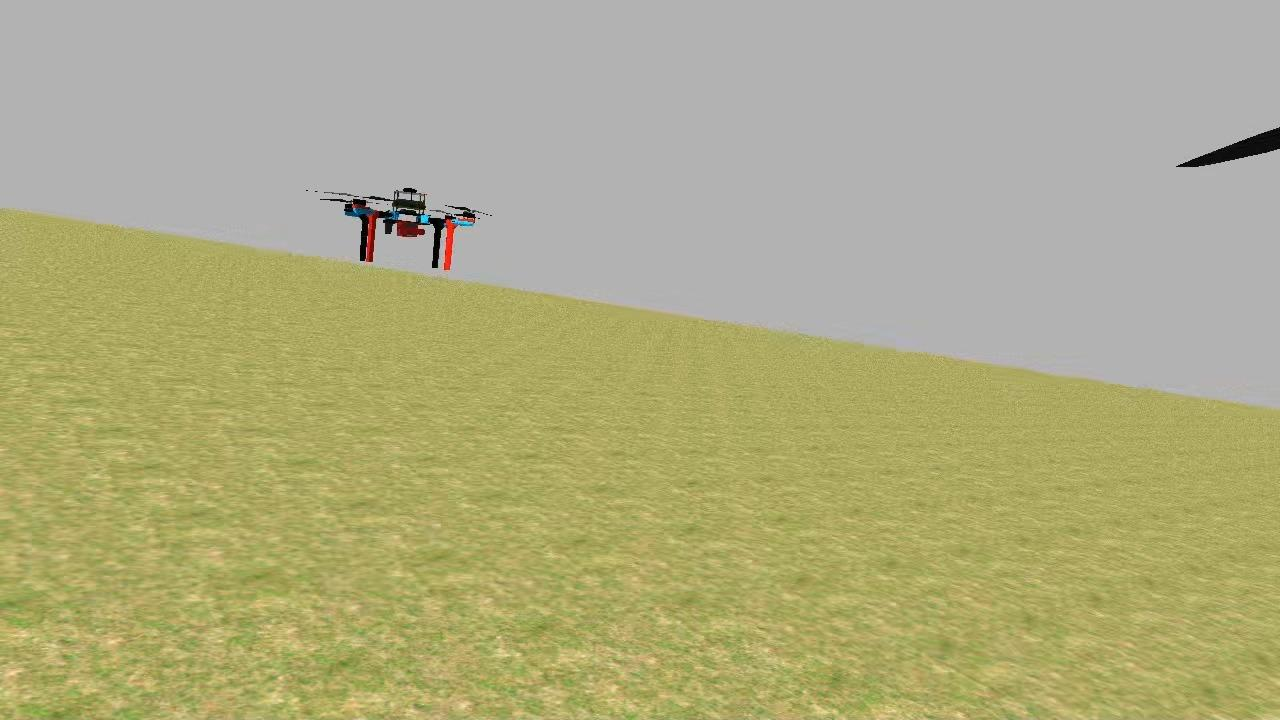UAV: (330, 182, 486, 278)
